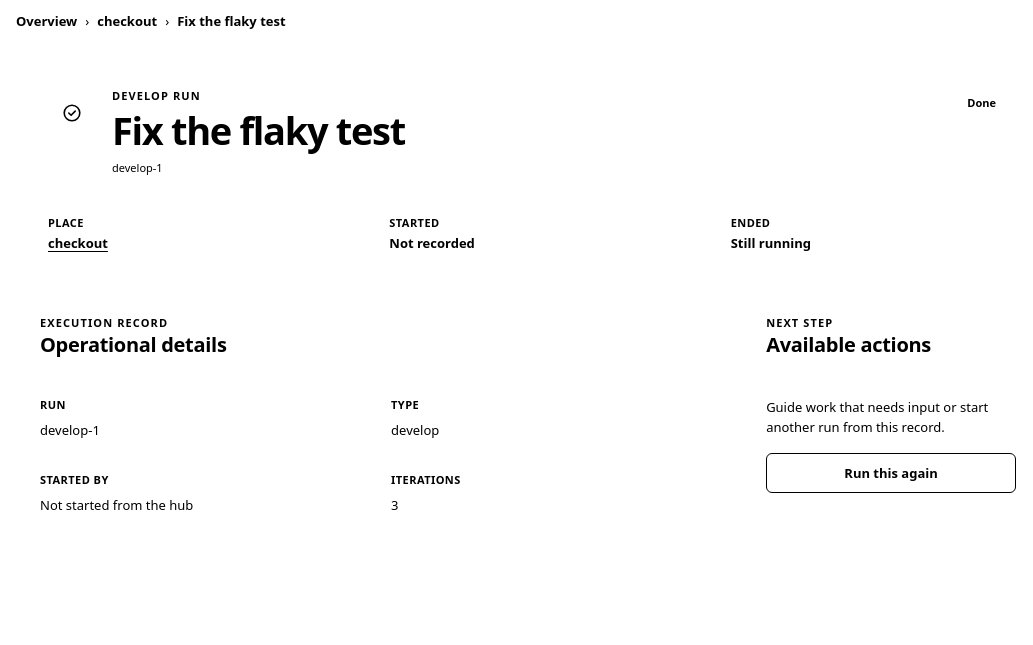
Scenario: says why a repeat would collide, and leads to the work in the way
This screenshot has width=1033, height=645.
Click the button "Run this again".
click(891, 474)  # box [766,454,1016,494]
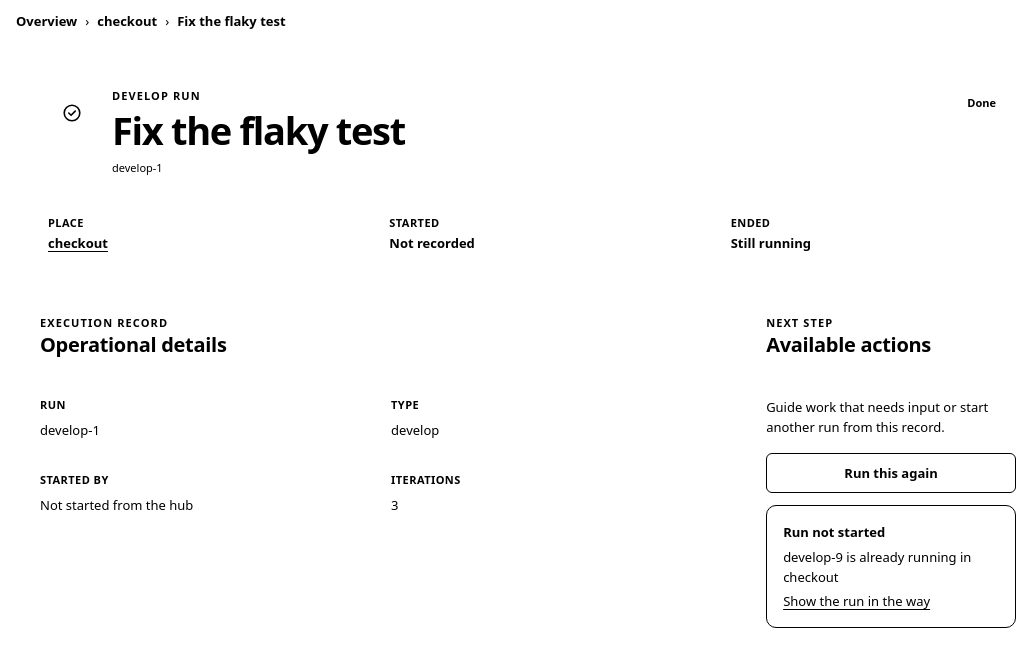
Expected: the message that starts with "Run not started" shows "develop-9", [783,548,971,586]
